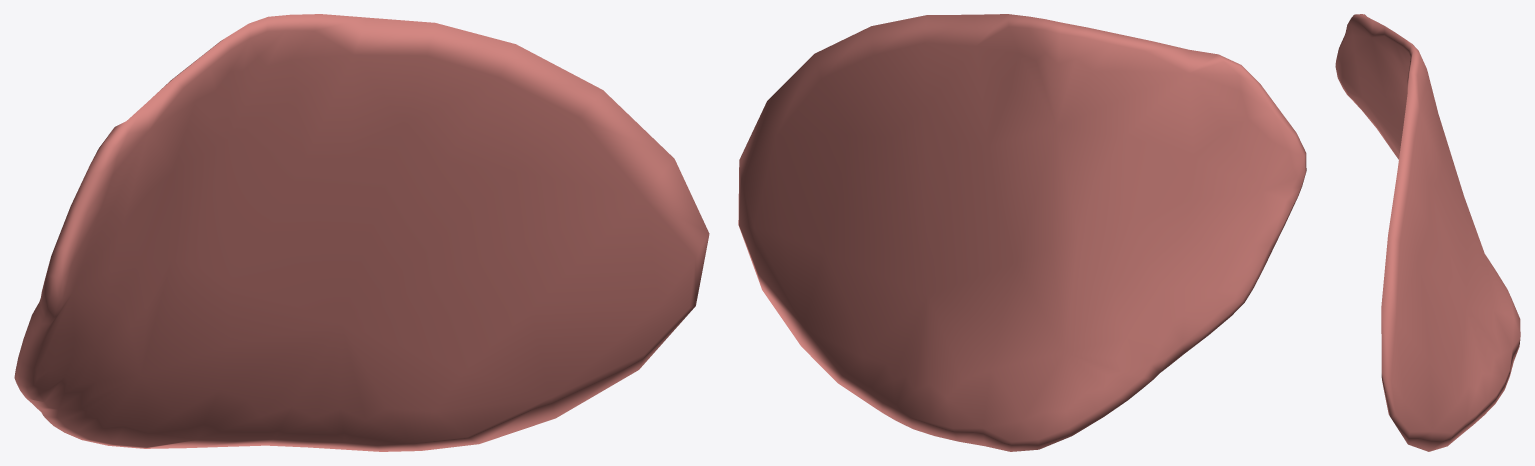
The picture shows the model from 3 angles, left to right: view 1: azimuth 30°, elevation 25°; view 2: azimuth 150°, elevation 25°; view 3: azimuth 270°, elevation 25°; orthographic projection. The views are drawn at different scales.
Visible parts, largest first — view 1: ZA_51c10af6129d9d31; view 2: ZA_51c10af6129d9d31; view 3: ZA_51c10af6129d9d31.
Boxes of the visible parts, left/top/right/bottom form: ZA_51c10af6129d9d31: left=14, top=14, right=709, bottom=451; ZA_51c10af6129d9d31: left=738, top=14, right=1306, bottom=451; ZA_51c10af6129d9d31: left=1335, top=14, right=1520, bottom=451.
Size of the model in its own units: 0.0167 by 0.0117 by 0.00605.
